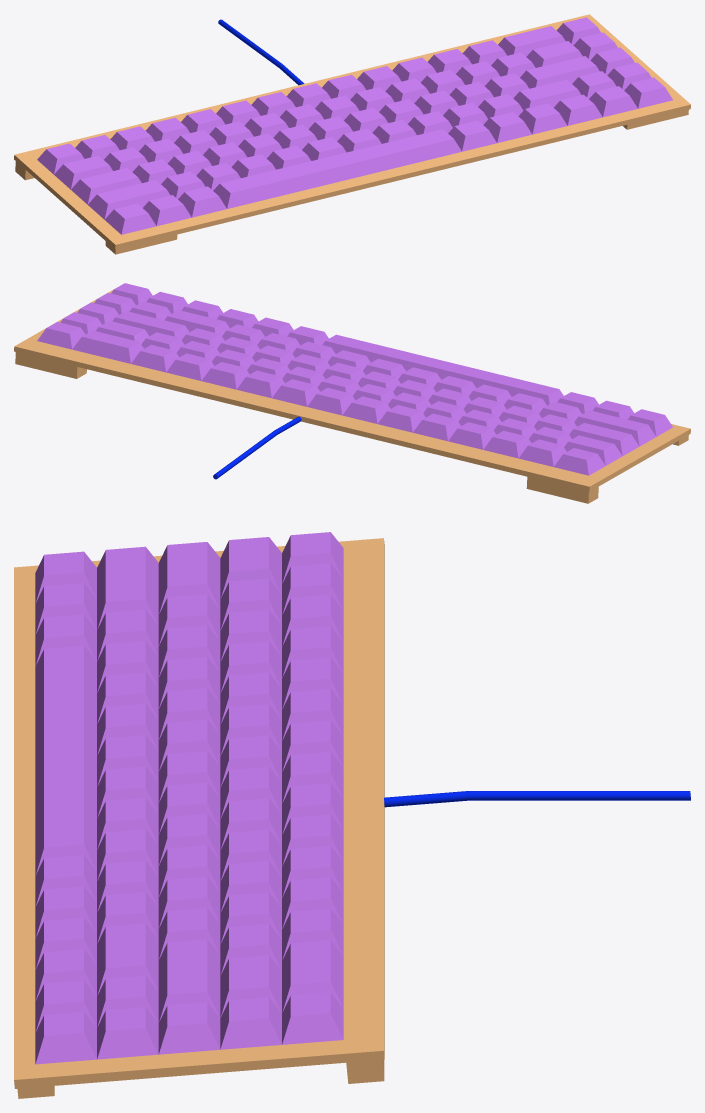
Rendered from SM_Keyboard_A.fbx.
3 renders of one model, top to bottom at view 1: azimuth 30°, elevation 25°; view 2: azimuth 150°, elevation 25°; view 3: azimuth 270°, elevation 25°, orthographic. The views are drawn at different scales.
Parts seen in each view (by area): view 1: SM_Keyboard_A; view 2: SM_Keyboard_A; view 3: SM_Keyboard_A.
Boxes of the visible parts, left/top/right/bottom form: SM_Keyboard_A: left=14, top=14, right=690, bottom=254; SM_Keyboard_A: left=14, top=283, right=690, bottom=503; SM_Keyboard_A: left=14, top=532, right=690, bottom=1098.
Bounding box in the file's own units: 32.52 × 2.1 × 18.15.
